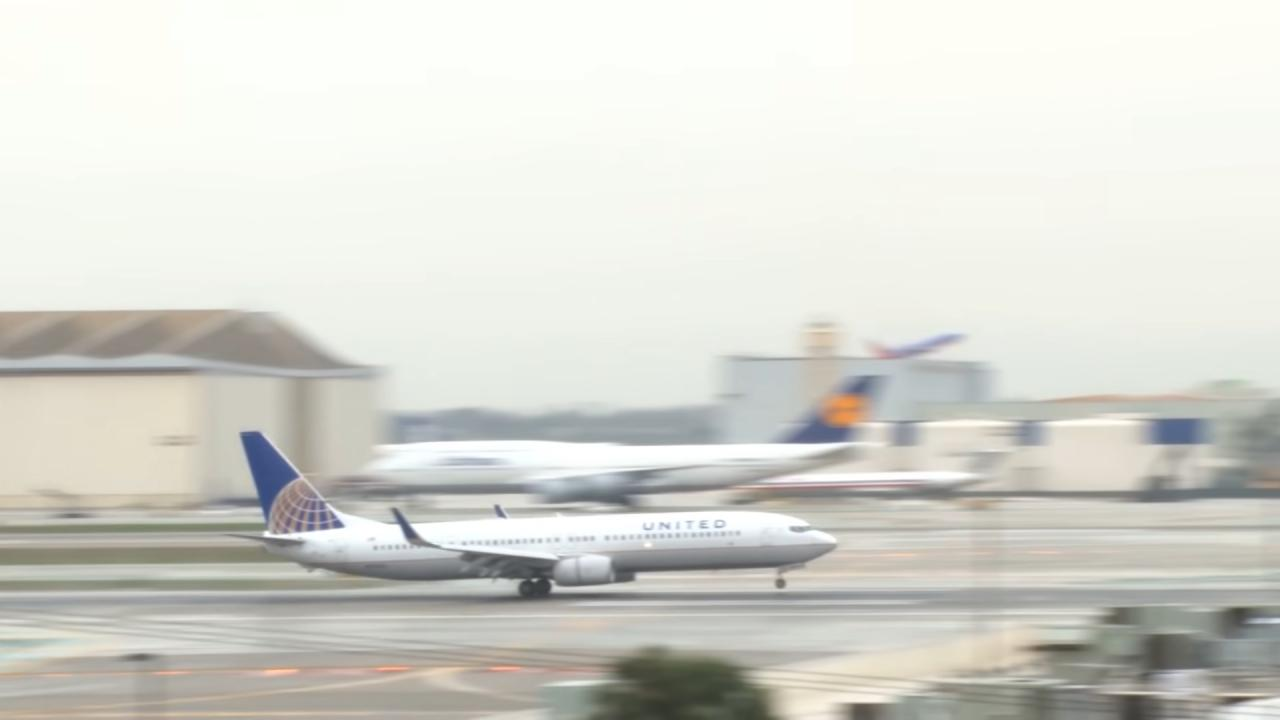Airplane: (200, 416, 860, 617)
